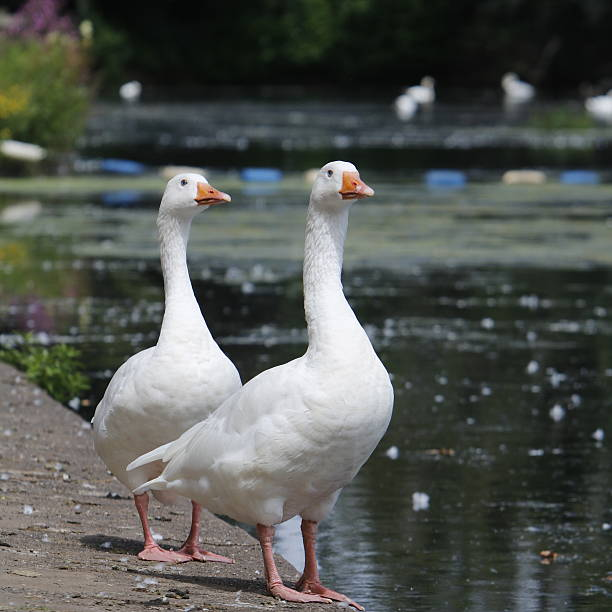goose: (161, 156, 396, 611), (78, 166, 249, 575)
